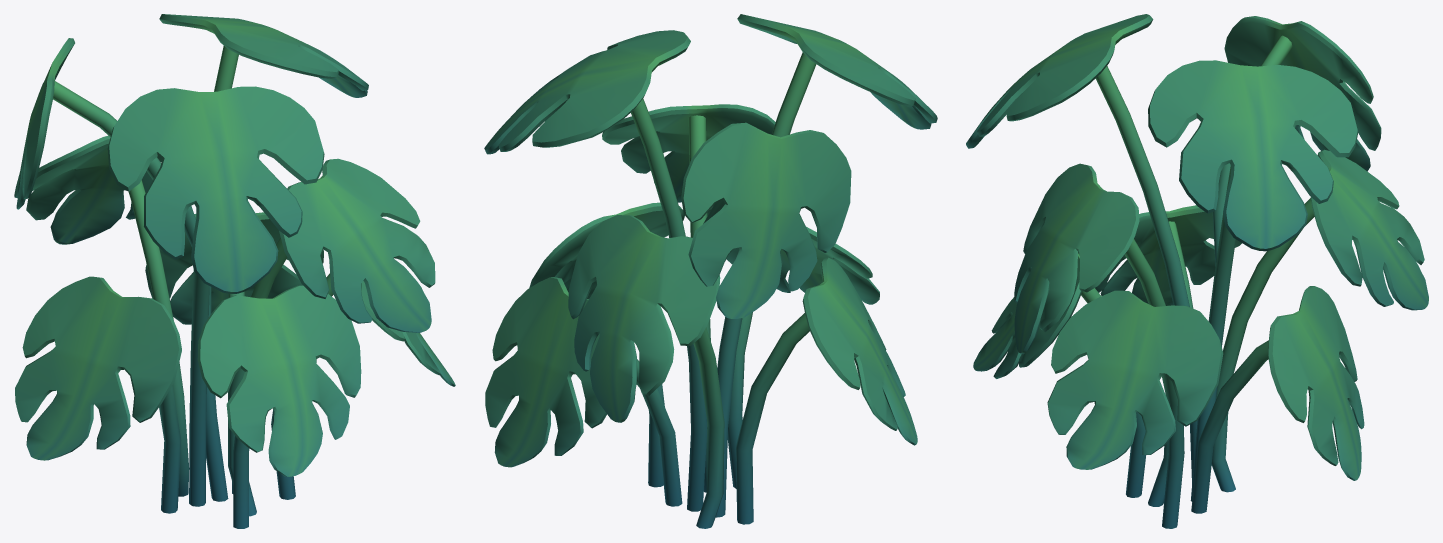
The model's file is Large Monstera Plant.glb.
The picture shows the model from 3 angles, left to right: view 1: azimuth 30°, elevation 25°; view 2: azimuth 150°, elevation 25°; view 3: azimuth 270°, elevation 25°; orthographic projection. The views are drawn at different scales.
Visible parts, largest first — view 1: monstera_plant_large; view 2: monstera_plant_large; view 3: monstera_plant_large.
Part boxes in pixels (x1,y1,x2,y2): monstera_plant_large: (14, 14, 455, 528); monstera_plant_large: (484, 14, 937, 528); monstera_plant_large: (966, 14, 1428, 528).
Size of the model in its own units: 2.59 by 2.96 by 2.79.
Materials: 1 (1 with a texture image).
